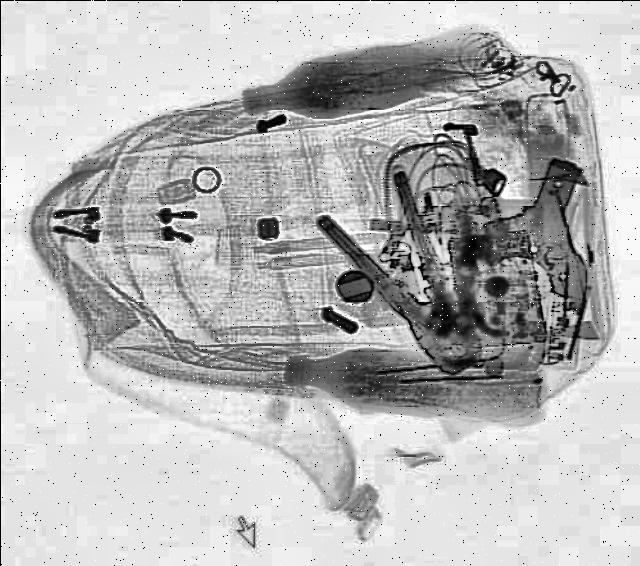Pliers: (306, 170, 518, 392)
